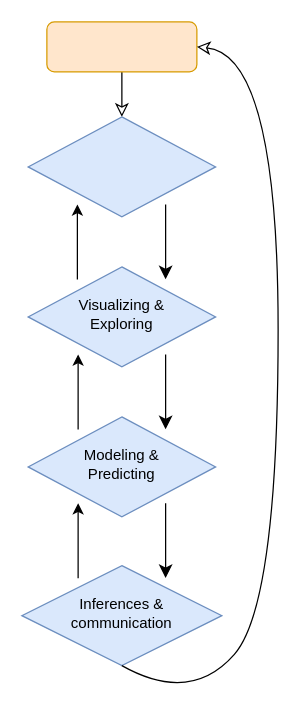
The diagram is 300 pixels wide and 705 high, and some of its shapes have lost their labels. The shapes that lost their labels are listed below. From the top down, each one's centre as x and y in pixels, then its label:
(x=121, y=46): Ask a Quesiton
(x=121, y=166): Collecting & Cleaning data
